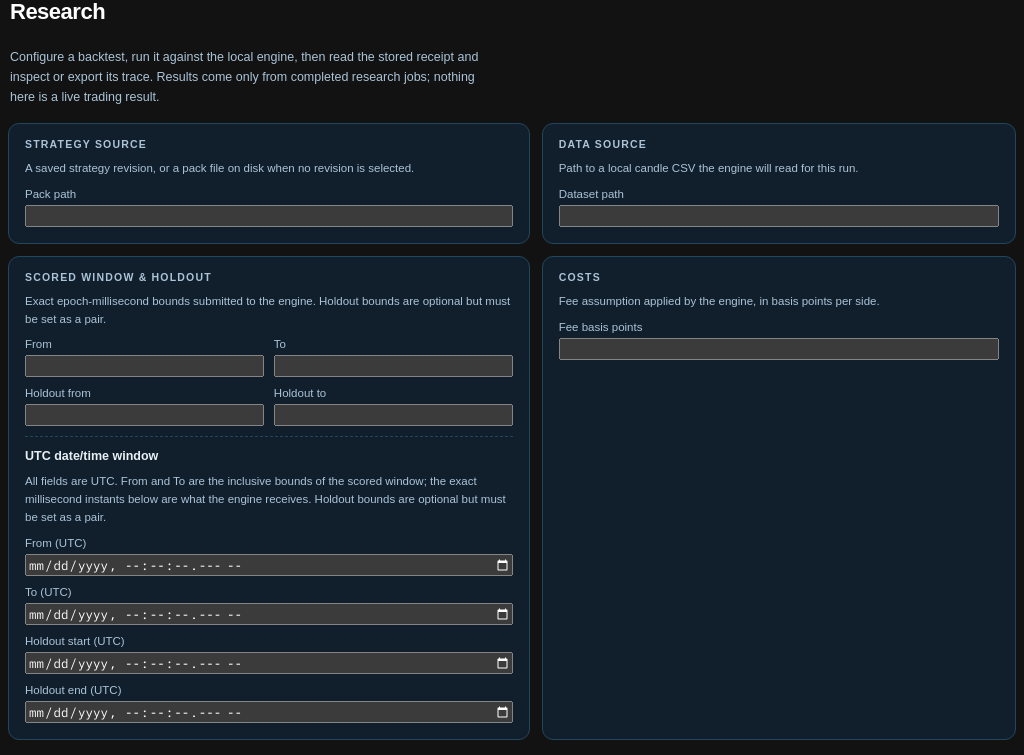
Research automatic result-read failure feedback (issue282) › shows a truthful accessible alert through the real HTTP adapter when the automatic result read gets a 503, with no unhandled rejection
Type "fixtures/synthetic.csv" into the field labelled "Dataset path".
click(779, 216); type("fixtures/synthetic.csv")  # box left=559, top=205, right=999, bottom=227
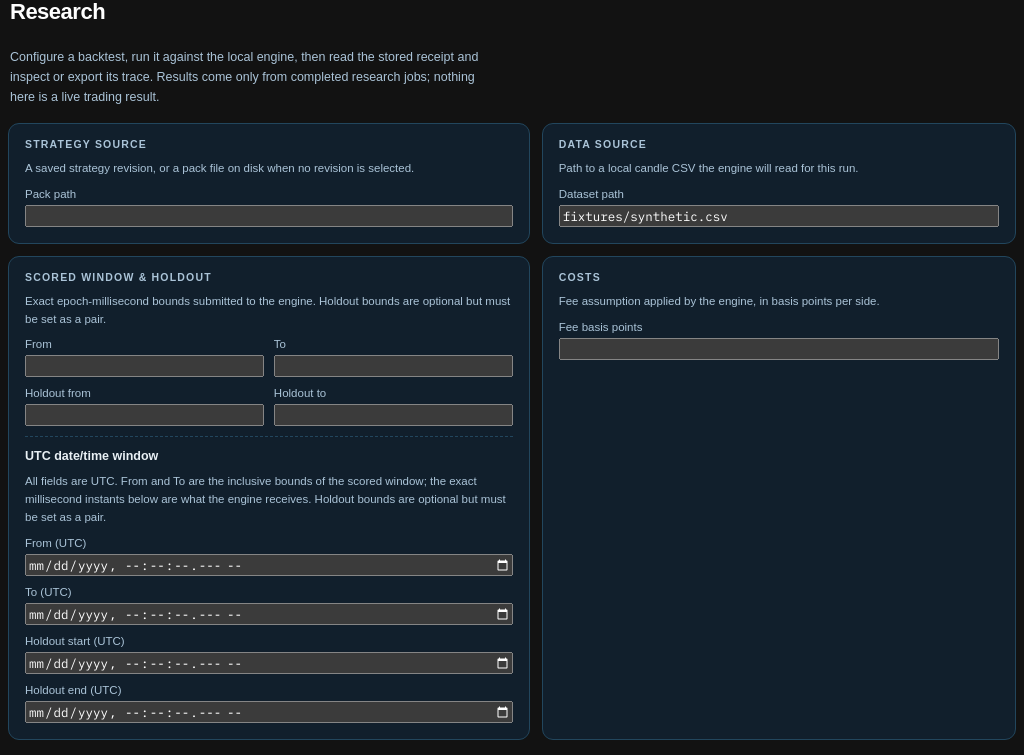
Type "40" into the field labelled "Fee basis points".
click(779, 349); type("40")  # box left=559, top=338, right=999, bottom=360
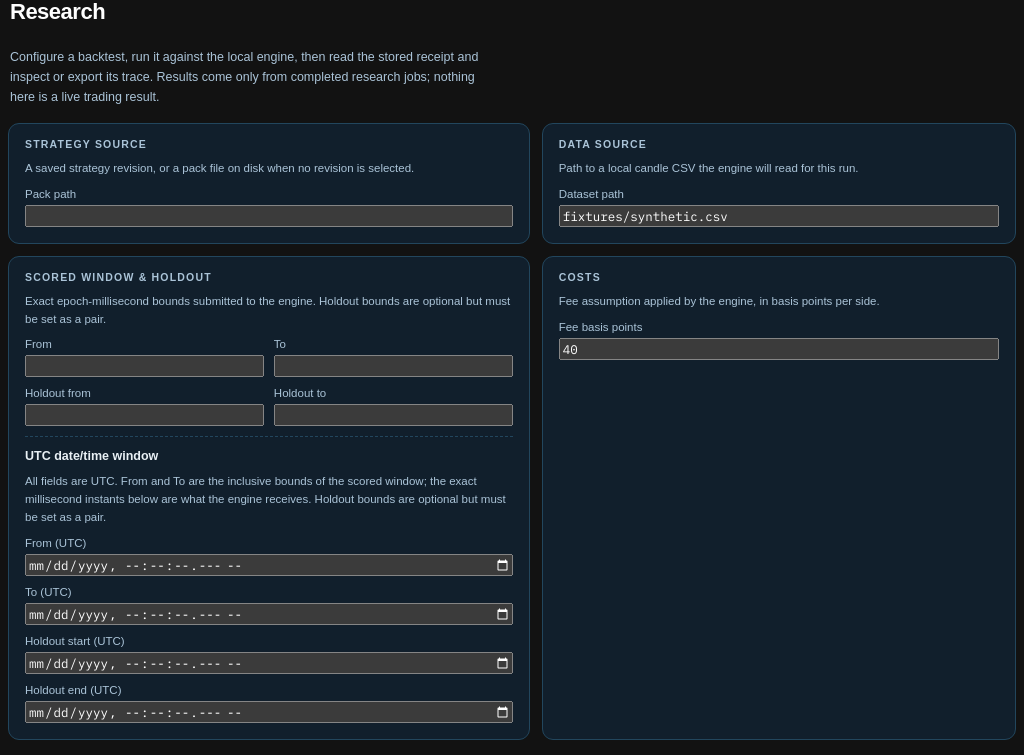
Type "0" into the field labelled "From".
click(144, 366); type("0")  # box left=25, top=355, right=264, bottom=377
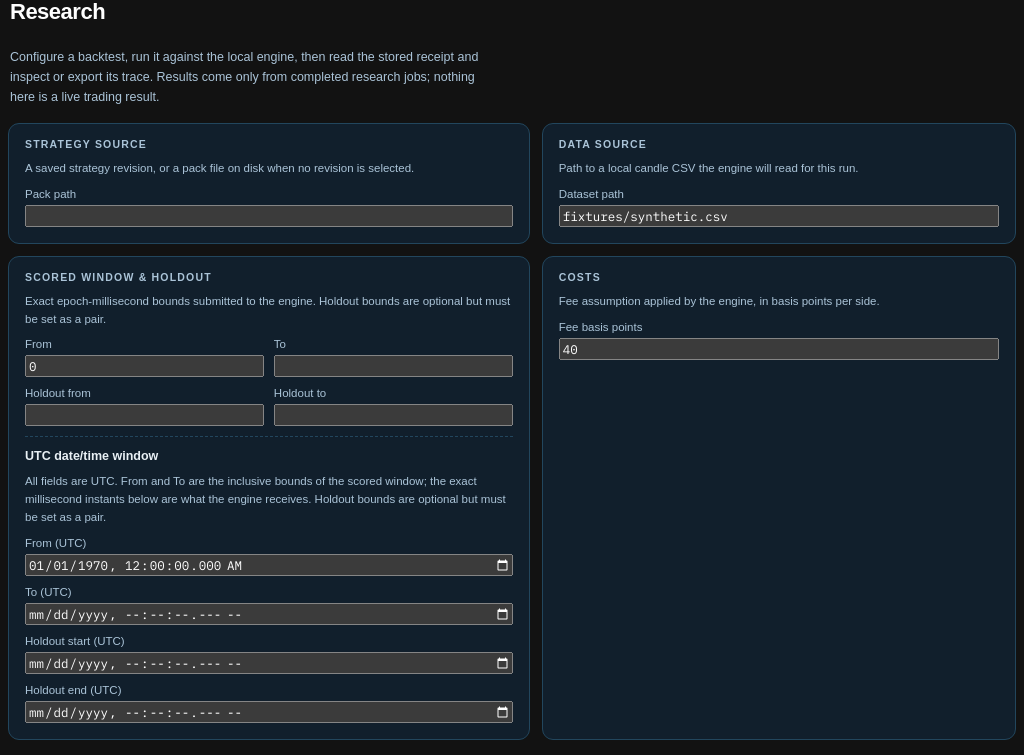
Type "1000" into the field labelled "To".
click(393, 366); type("1000")  # box left=274, top=355, right=513, bottom=377
(page scrolled)
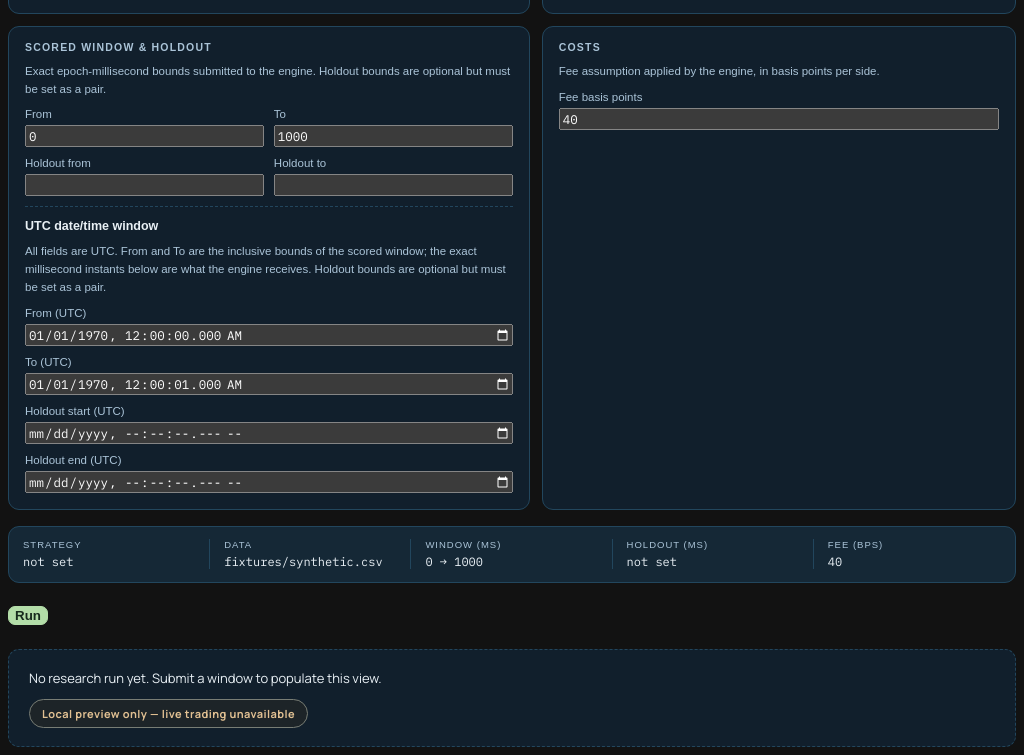
Click the button "Run".
click(28, 616)  # box left=8, top=606, right=48, bottom=625
(page scrolled)
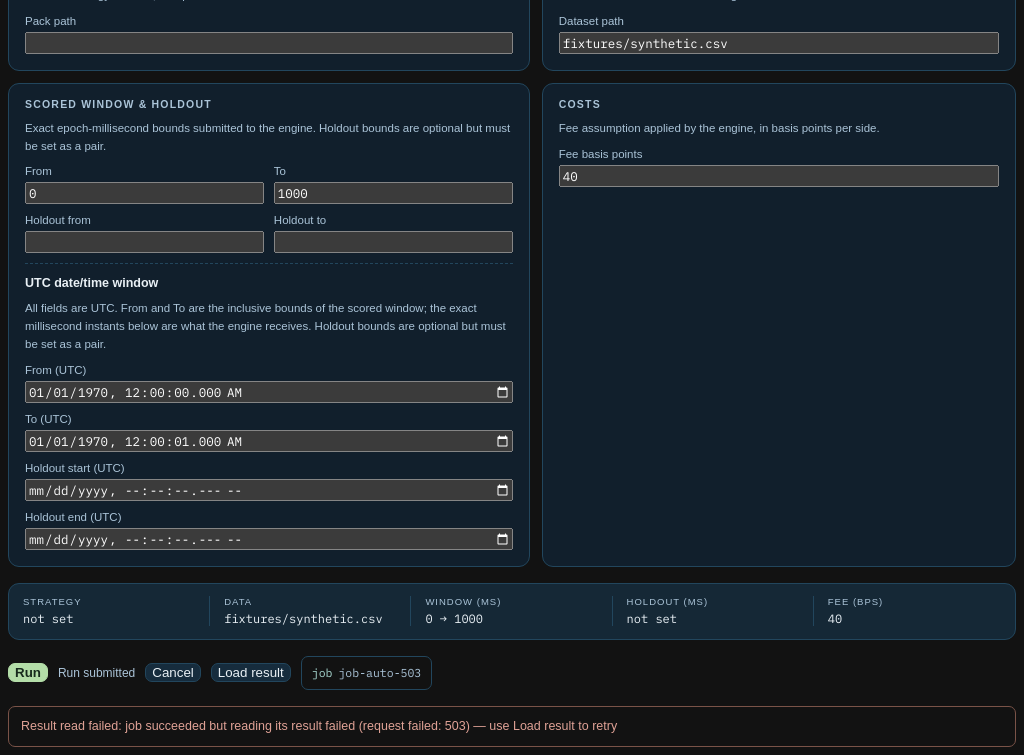
Result: the element with test id "research-job-id" is shown at left=301, top=656, right=432, bottom=690
Result: the message with test id "research-job-error" shows "Result read failed" at left=21, top=719, right=118, bottom=733
Result: the message with test id "research-job-error" shows "request failed: 503" at left=125, top=719, right=617, bottom=733
